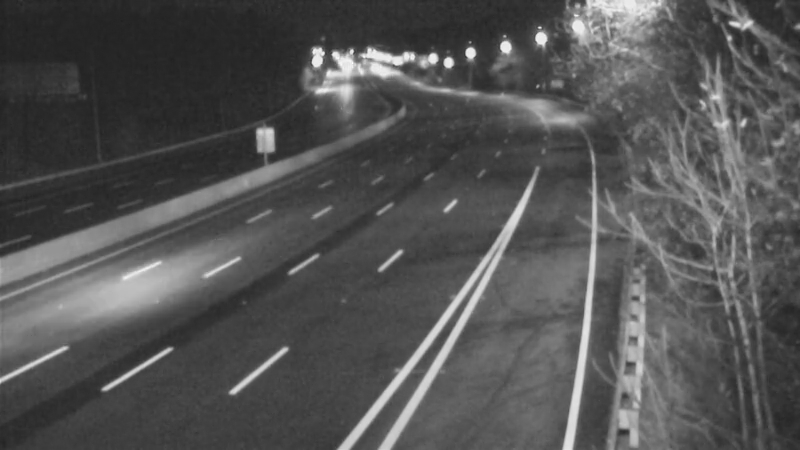vehicle: (731, 85, 794, 132), (708, 90, 770, 137), (699, 83, 761, 130), (760, 81, 800, 128)
